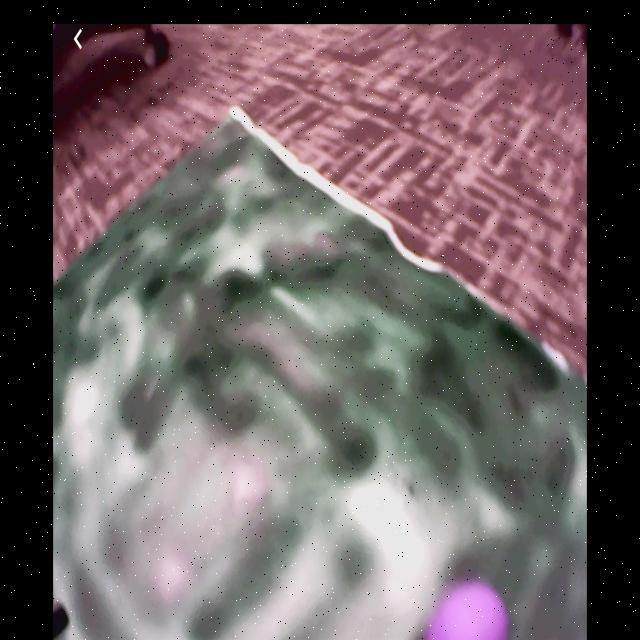ball: (422, 579, 510, 640)
